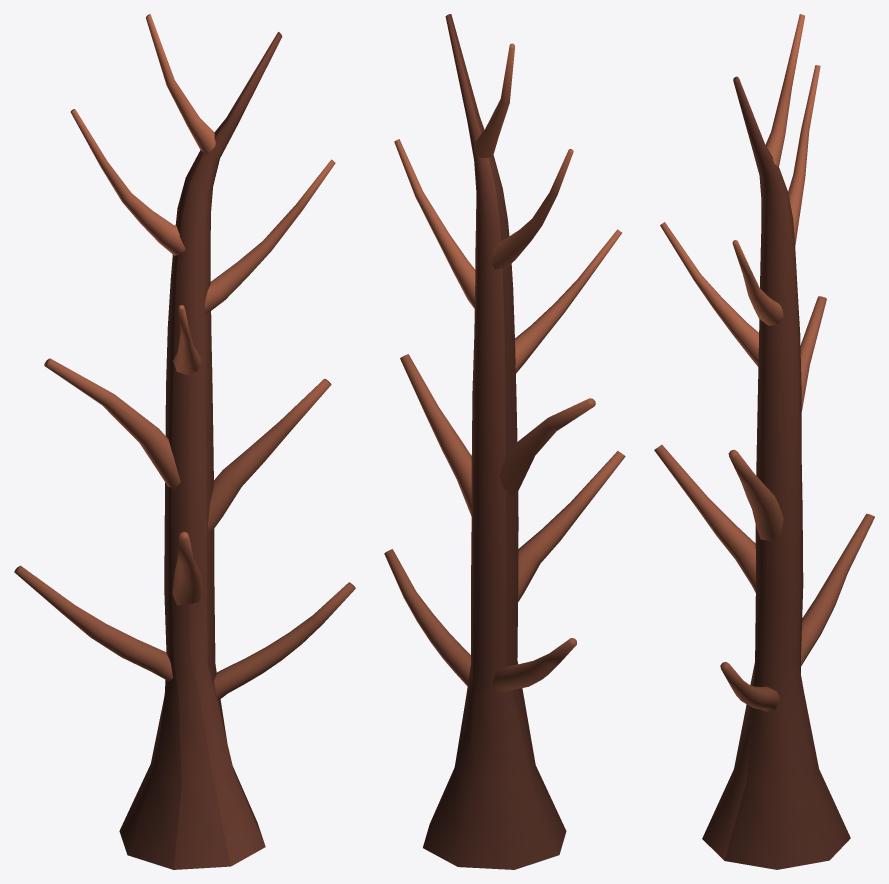
The model's file is Naked_Tree_01.fbx.
3 renders of one model, left to right at view 1: azimuth 30°, elevation 25°; view 2: azimuth 150°, elevation 25°; view 3: azimuth 270°, elevation 25°, orthographic.
Parts seen in each view (by area): view 1: Naked_Tree_01; view 2: Naked_Tree_01; view 3: Naked_Tree_01.
Part boxes in pixels (bbox=[...]): Naked_Tree_01: bbox=[14, 14, 355, 869]; Naked_Tree_01: bbox=[384, 14, 625, 869]; Naked_Tree_01: bbox=[654, 14, 874, 869].
Size of the model in its own units: 49.57 by 146 by 36.03.
